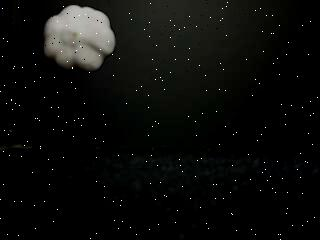Garlic: (40, 4, 118, 72)
